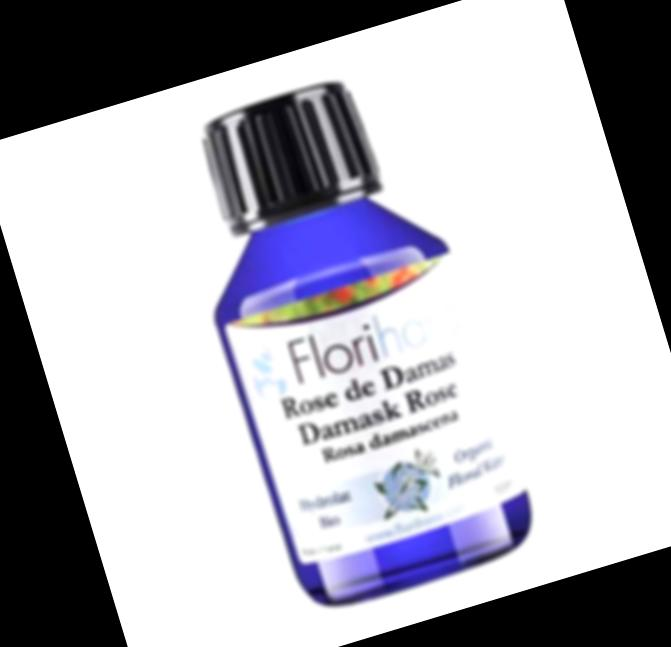cosmetic: (153, 57, 544, 617)
